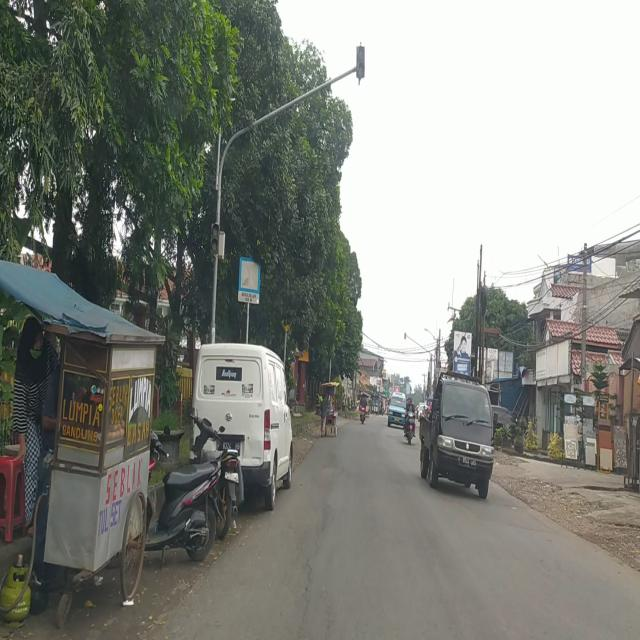Sewer Cover: (299, 523, 325, 629)
